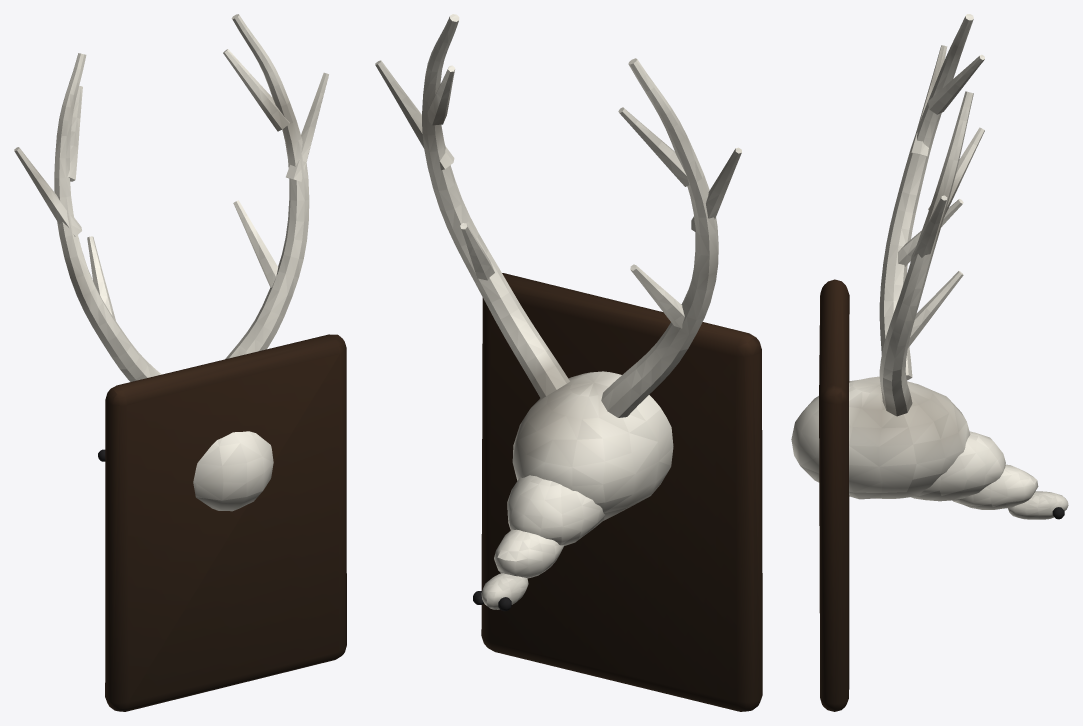
Rendered from DeerSkull.glb.
The picture shows the model from 3 angles, left to right: view 1: azimuth 30°, elevation 25°; view 2: azimuth 150°, elevation 25°; view 3: azimuth 270°, elevation 25°; orthographic projection. The views are drawn at different scales.
Parts seen in each view (by area): view 1: DeerSkull_wood_dark, DeerSkull_ceramic; view 2: DeerSkull_wood_dark, DeerSkull_ceramic; view 3: DeerSkull_ceramic, DeerSkull_wood_dark.
Boxes of the visible parts, box(x1,y1,x2,y2) form: DeerSkull_wood_dark: box(105, 334, 346, 711); DeerSkull_ceramic: box(14, 14, 328, 511); DeerSkull_wood_dark: box(481, 273, 762, 711); DeerSkull_ceramic: box(375, 14, 741, 609); DeerSkull_ceramic: box(791, 14, 1068, 519); DeerSkull_wood_dark: box(819, 279, 849, 711).
Size of the model in its own units: 1.73 by 3.16 by 1.31.
